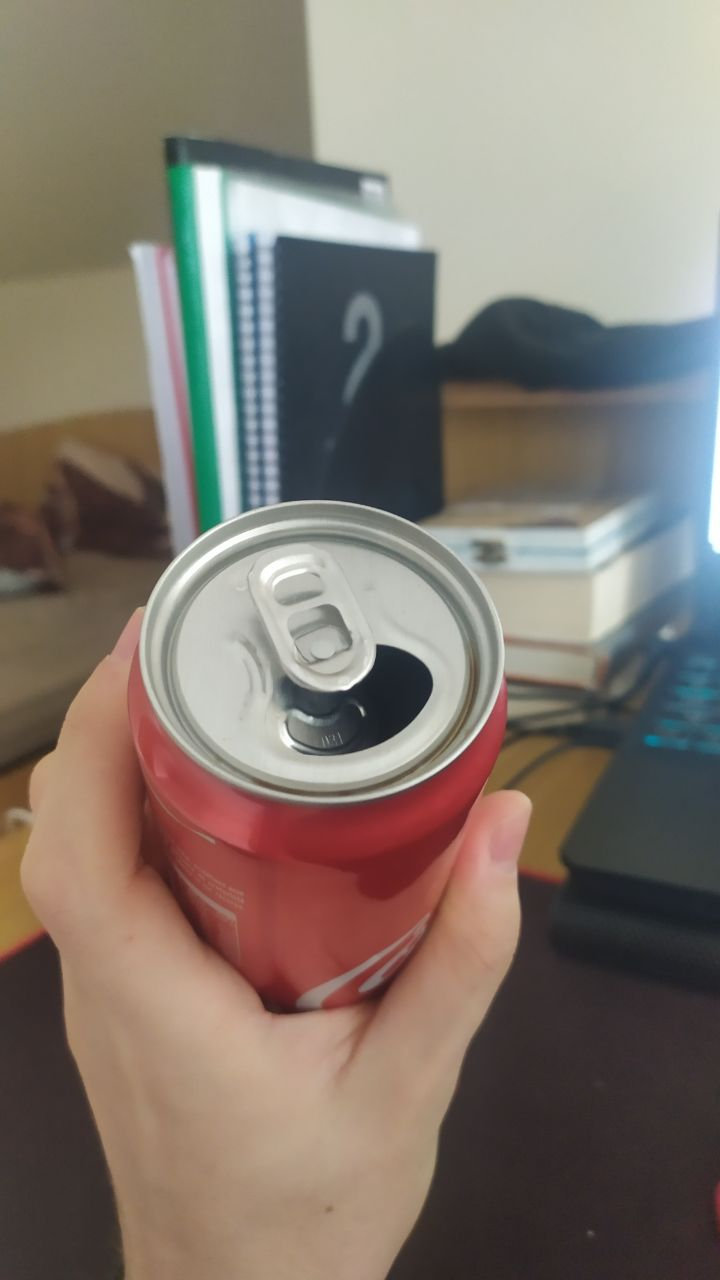Can: (128, 491, 515, 1065)
